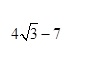sqrt: (20, 19, 38, 42)
